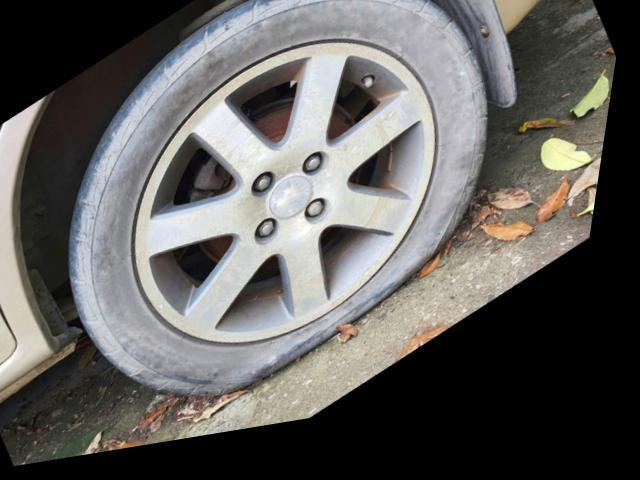tire flat: (76, 0, 497, 408)
